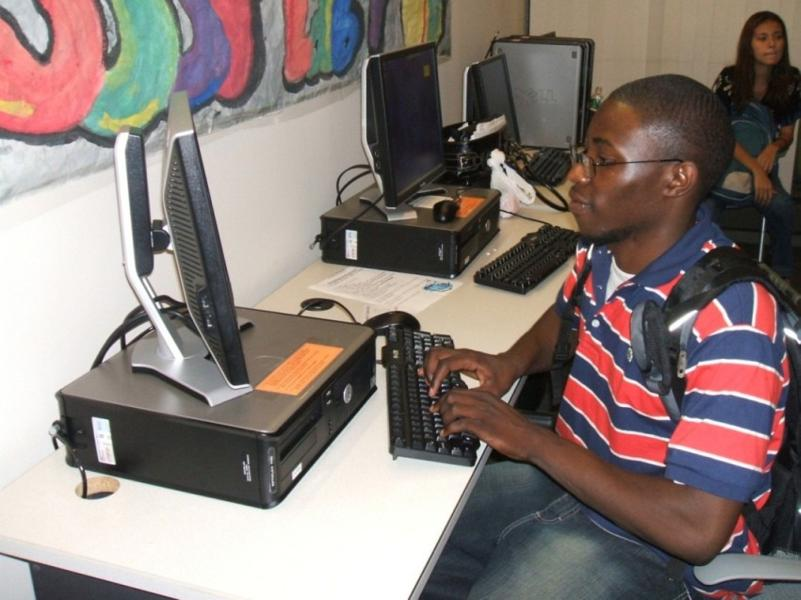person: (418, 73, 791, 600)
